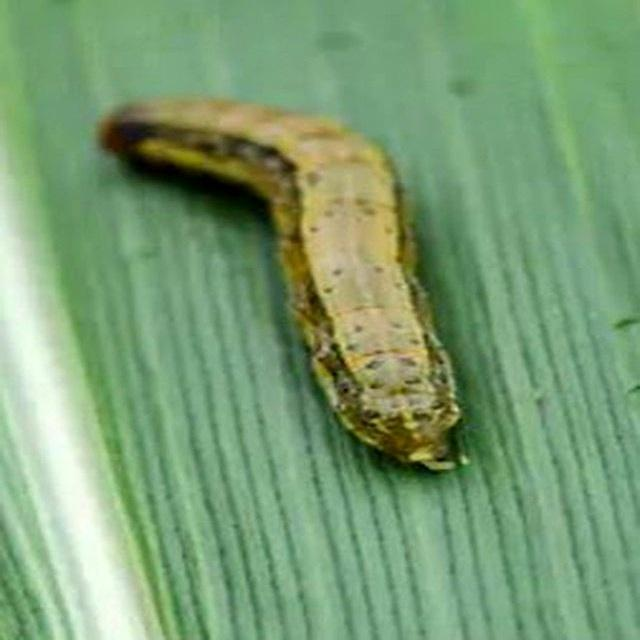worm: (97, 96, 471, 475)
